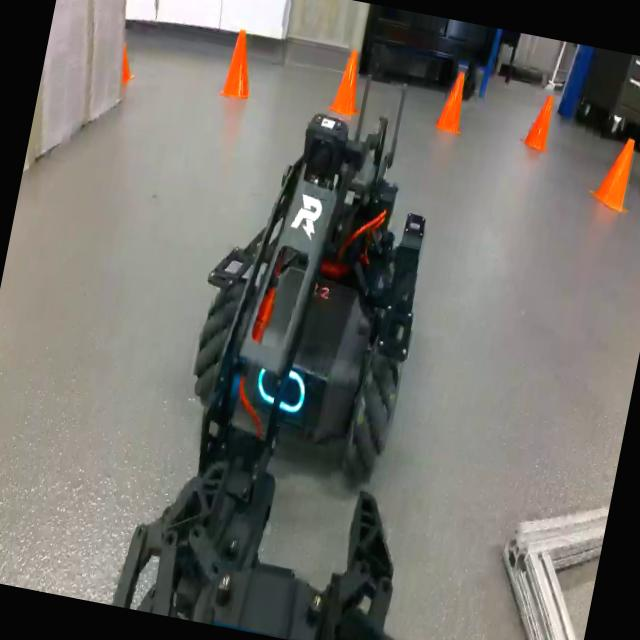cone: (591, 137, 636, 211), (220, 28, 249, 97), (330, 49, 358, 115), (437, 70, 466, 133), (525, 94, 555, 150)
metal barrier: (504, 509, 609, 640)
robot: (115, 77, 426, 630)
storage cube: (24, 0, 92, 168), (90, 0, 124, 122)
